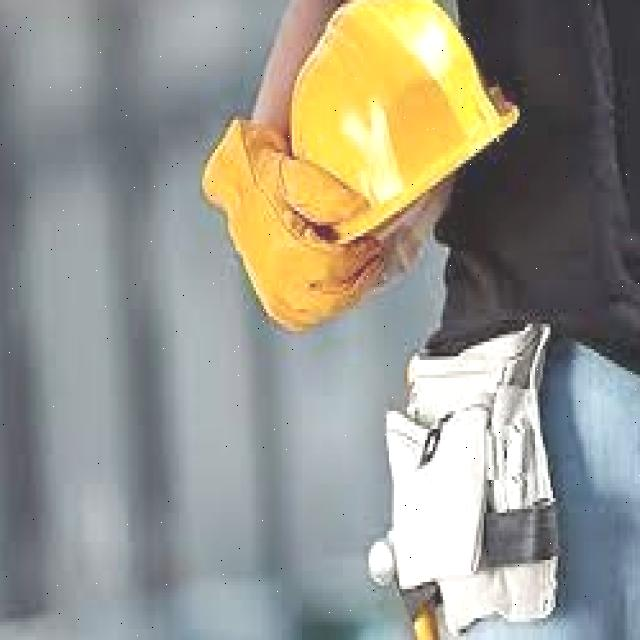Gloves: (201, 118, 385, 330)
Hardhat: (292, 0, 522, 233)
No Overall Suit: (430, 0, 640, 640)
